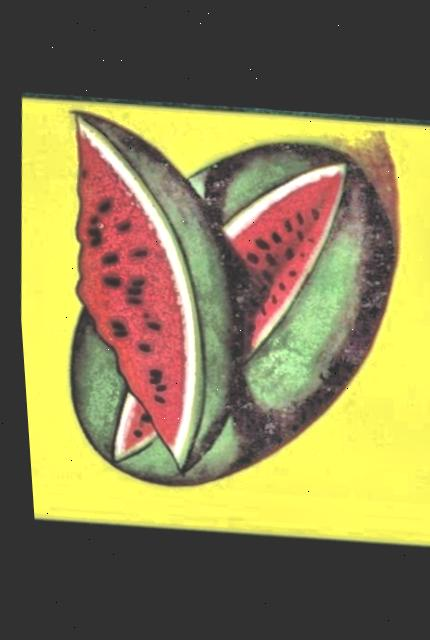La Sandia: (5, 97, 430, 543)
